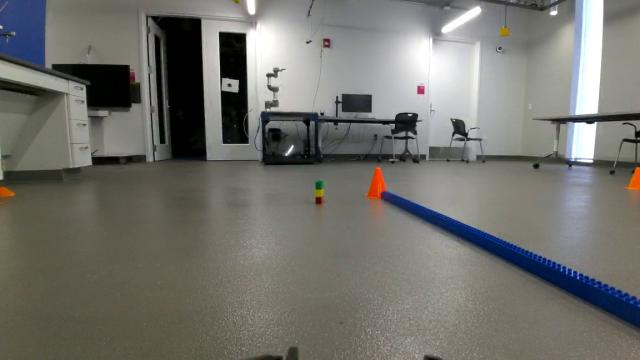lego: (310, 174, 328, 210)
